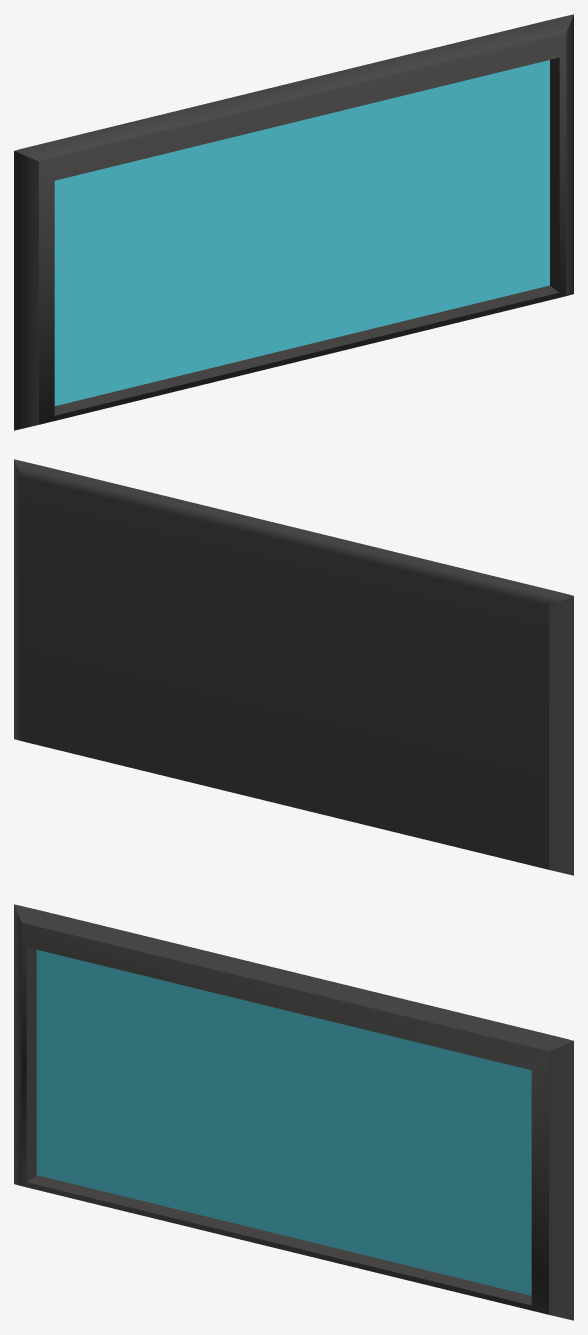
3 renders of one model, top to bottom at view 1: azimuth 30°, elevation 25°; view 2: azimuth 150°, elevation 25°; view 3: azimuth 330°, elevation 25°, orthographic.
Visible parts, largest first — view 1: tv; view 2: tv; view 3: tv.
Part boxes in pixels (<box>): tv: <box>14,14,573,430</box>; tv: <box>14,459,573,875</box>; tv: <box>14,904,573,1320</box>.
Size of the model in its own units: 154 by 73.36 by 10.73.
